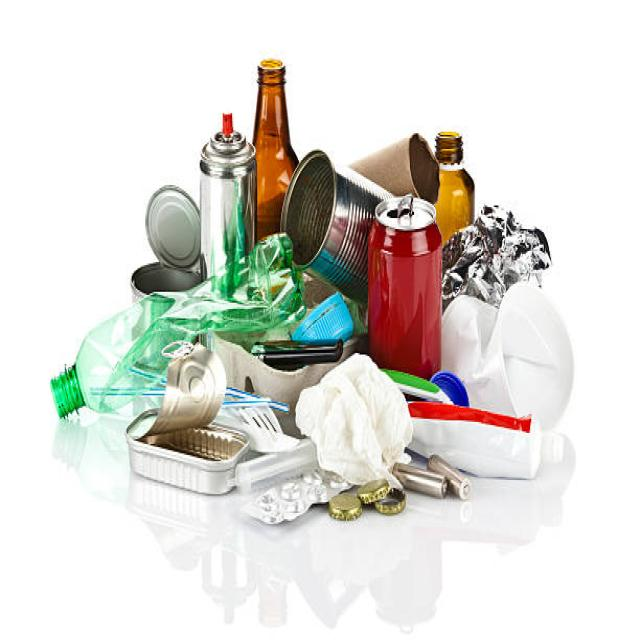cardboard: (356, 135, 426, 183)
glass: (430, 130, 484, 232)
metal: (127, 356, 232, 502), (372, 196, 442, 377), (196, 97, 262, 253), (284, 157, 352, 245), (141, 157, 197, 263), (332, 477, 404, 518)
plastic: (239, 430, 318, 510)
